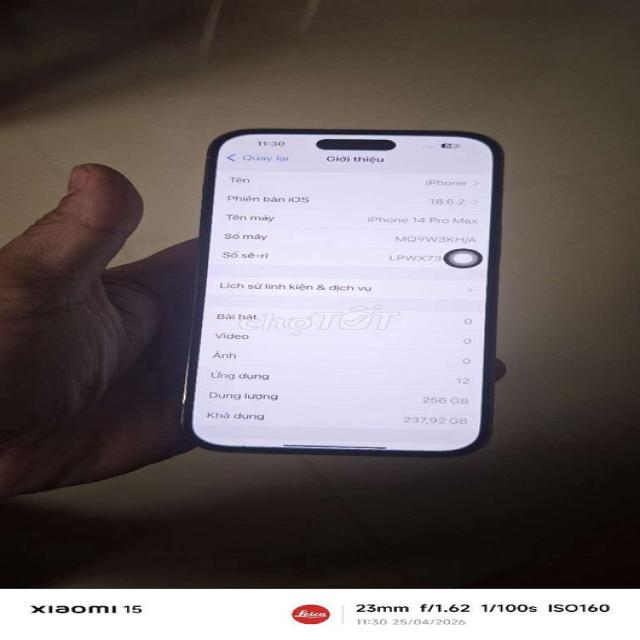gen_14: (183, 123, 512, 479)
